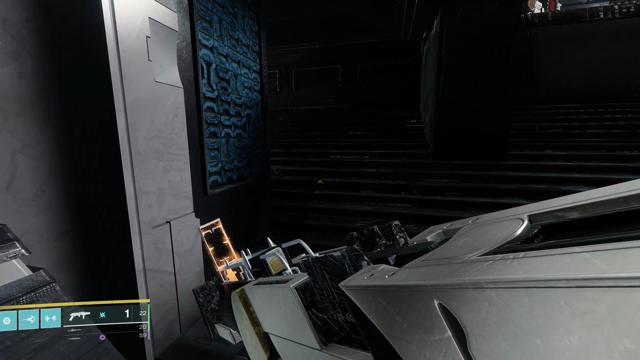stop: (549, 0, 557, 12)
